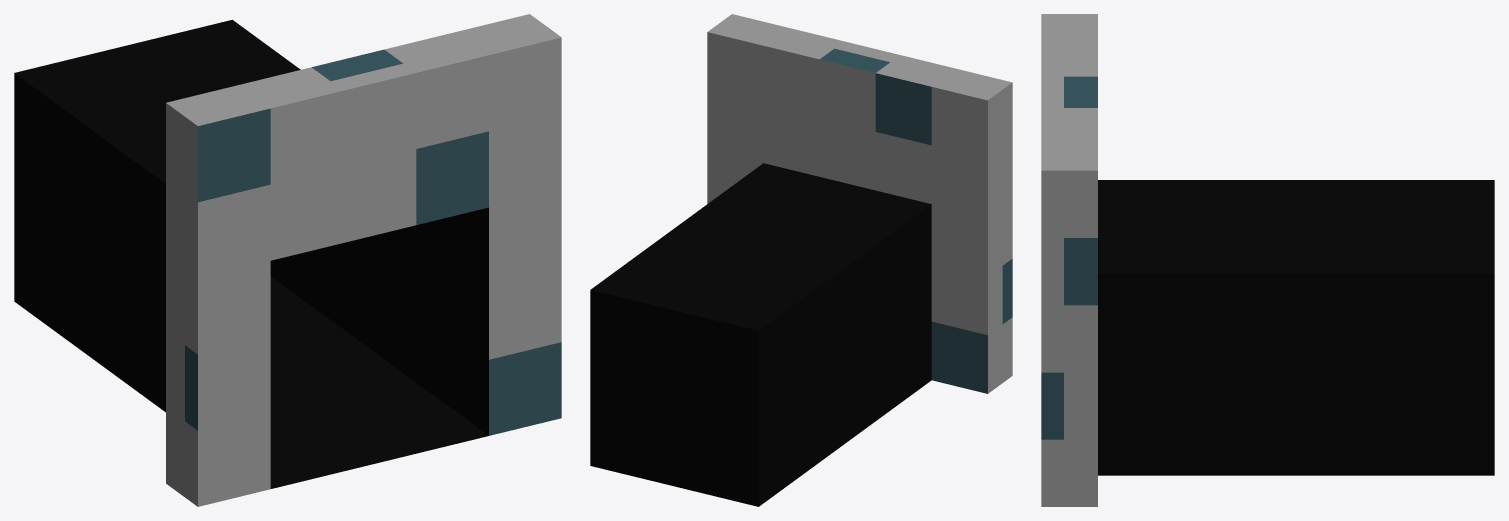
File: ParedePorta.fbx
The picture shows the model from 3 angles, left to right: view 1: azimuth 30°, elevation 25°; view 2: azimuth 150°, elevation 25°; view 3: azimuth 270°, elevation 25°; orthographic projection. The views are drawn at different scales.
Visible parts, largest first — view 1: ParedePorta; view 2: ParedePorta; view 3: ParedePorta.
Part boxes in pixels (x1,y1,x2,y2): ParedePorta: (14, 14, 561, 506); ParedePorta: (590, 14, 1012, 506); ParedePorta: (1041, 14, 1494, 506).
Bounding box in the file's own units: 200 × 200 × 244.
